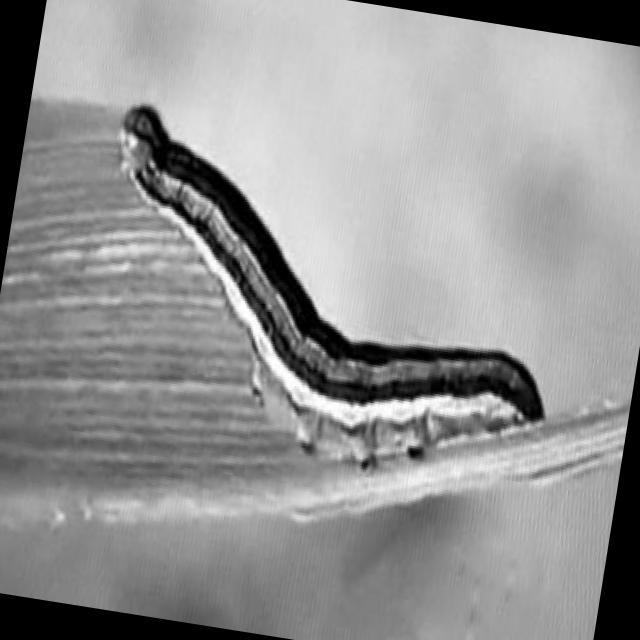Plaga: (65, 89, 588, 510)
